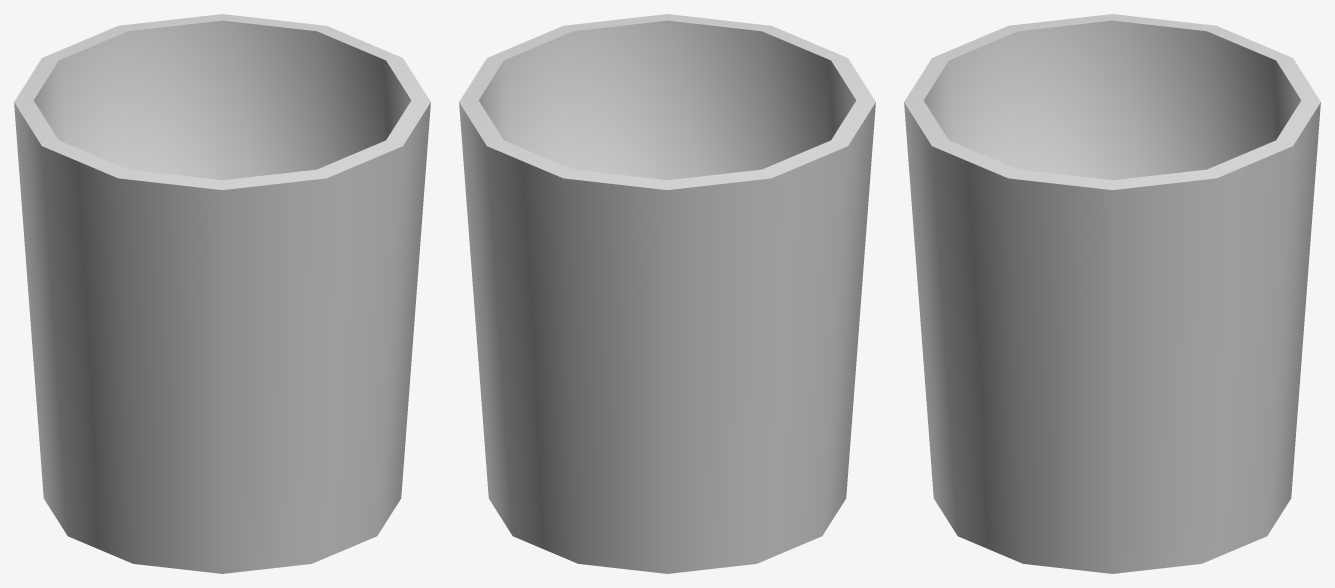
The model's file is Office_Bin.fbx.
3 views of the same model, side by side, from view 1: azimuth 30°, elevation 25°; view 2: azimuth 150°, elevation 25°; view 3: azimuth 270°, elevation 25° (orthographic).
Visible parts, largest first — view 1: Circle; view 2: Circle; view 3: Circle.
Boxes of the visible parts, x1,y1,x2,y2 form: Circle: (14,14,430,573); Circle: (459,14,875,573); Circle: (904,14,1320,573).
Size of the model in its own units: 1.02 by 1.08 by 1.02.
